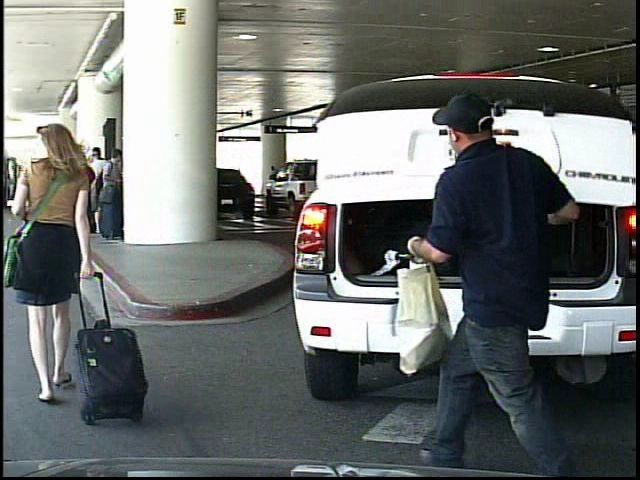person: (400, 83, 583, 474), (4, 120, 115, 427), (265, 163, 284, 206)
